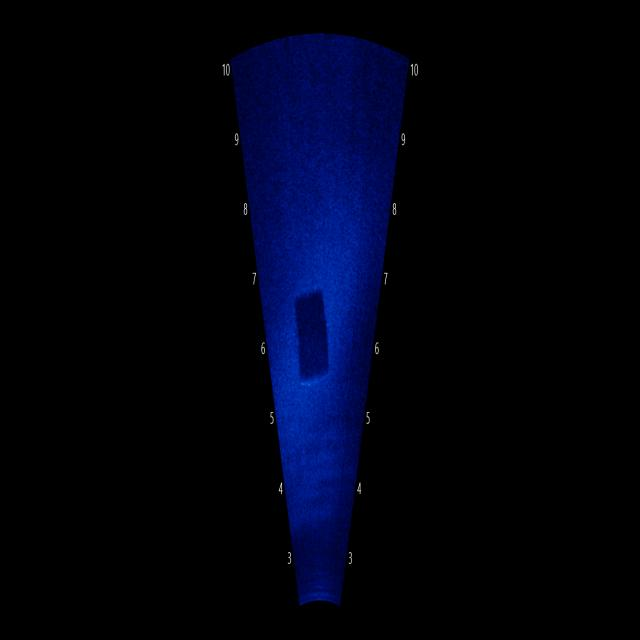square: (276, 266, 342, 392)
